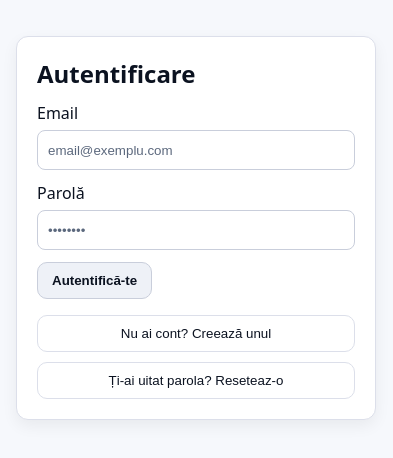
Test case: AuthPage › apelează signUp la submit în modul signUp
The image size is (393, 458).
Click the button "Nu ai cont? Creează unul" at {"x": 196, "y": 334}, box x1=37 y1=315 x2=355 y2=352
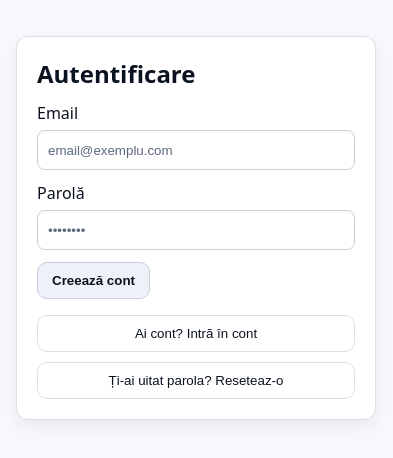
Type "nou@mail.com" into the field with placeholder "email@exemplu.com" at {"x": 196, "y": 150}, box x1=37 y1=130 x2=355 y2=170
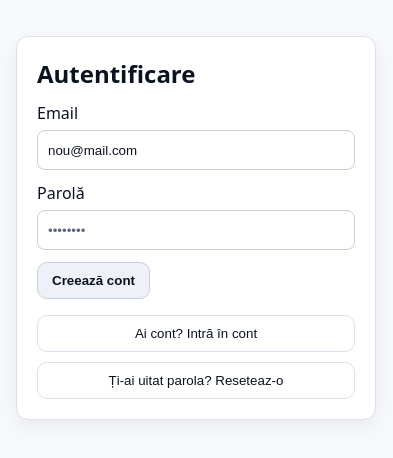
Type "parolaNoua" into the password field with placeholder "••••••••" at {"x": 196, "y": 230}, box x1=37 y1=210 x2=355 y2=250
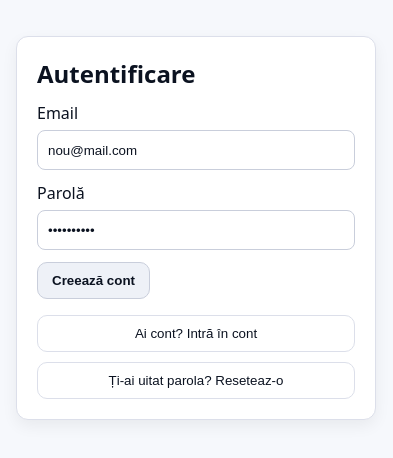
Click the button "Creează cont" at {"x": 94, "y": 280}, box x1=37 y1=262 x2=150 y2=299
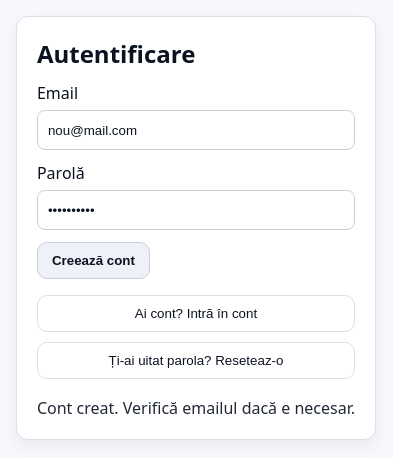
expect the text "Cont creat. Verifică emailul dacă e necesar." is shown: met, box x1=37 y1=397 x2=355 y2=419
